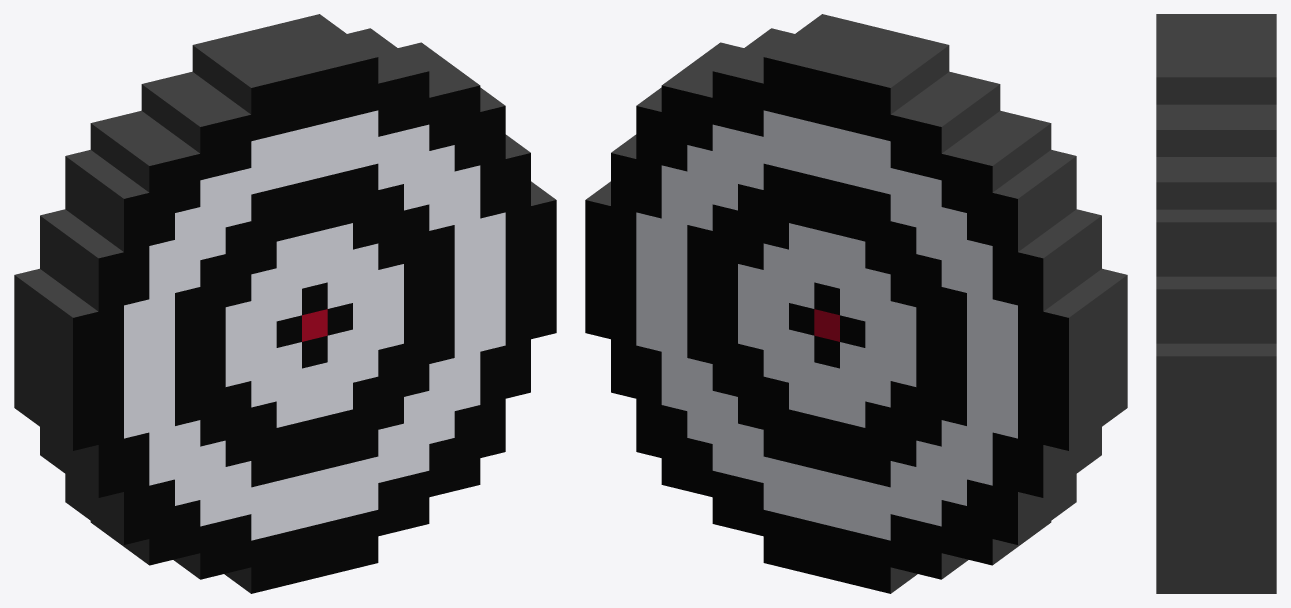
Rendered from Target.fbx.
The picture shows the model from 3 angles, left to right: view 1: azimuth 30°, elevation 25°; view 2: azimuth 150°, elevation 25°; view 3: azimuth 270°, elevation 25°; orthographic projection. The views are drawn at different scales.
Visible parts, largest first — view 1: Target; view 2: Target; view 3: Target.
Boxes of the visible parts, x1,y1,x2,y2 form: Target: (14, 14, 556, 593); Target: (585, 14, 1127, 593); Target: (1156, 14, 1276, 593).
Size of the model in its own units: 1.9 by 0.4 by 1.9.
